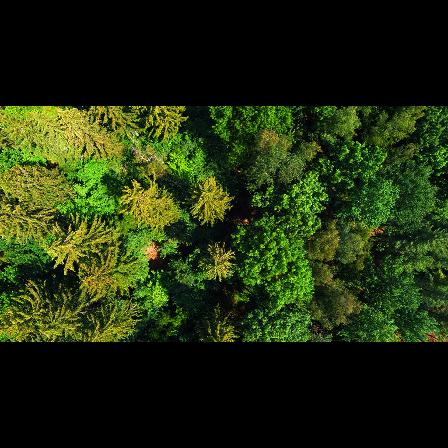Dead: (130, 136, 161, 164)
